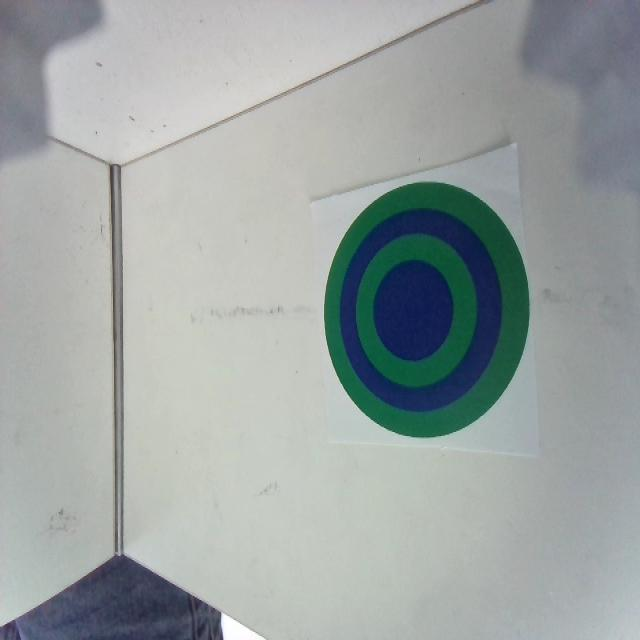cogn: (323, 179, 530, 440)
